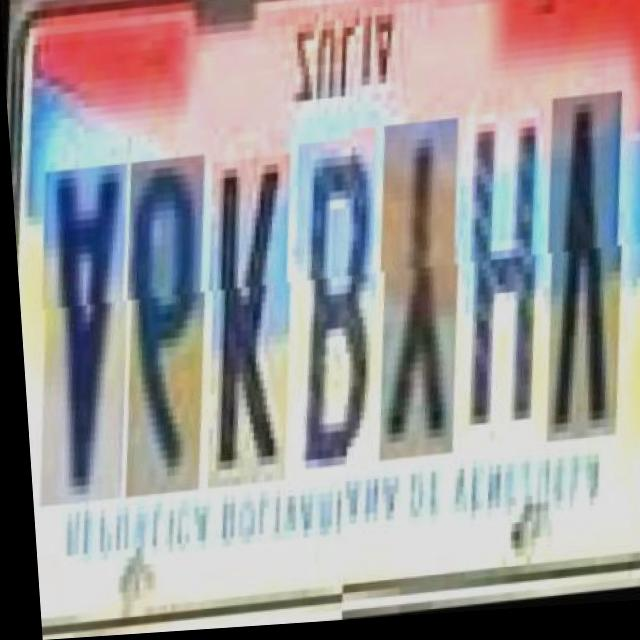6: (98, 150, 215, 492)
a: (12, 158, 138, 500)
b: (267, 135, 387, 477)
h: (433, 122, 553, 453)
k: (180, 151, 300, 485)
v: (518, 105, 632, 454)
y: (352, 128, 469, 470)
